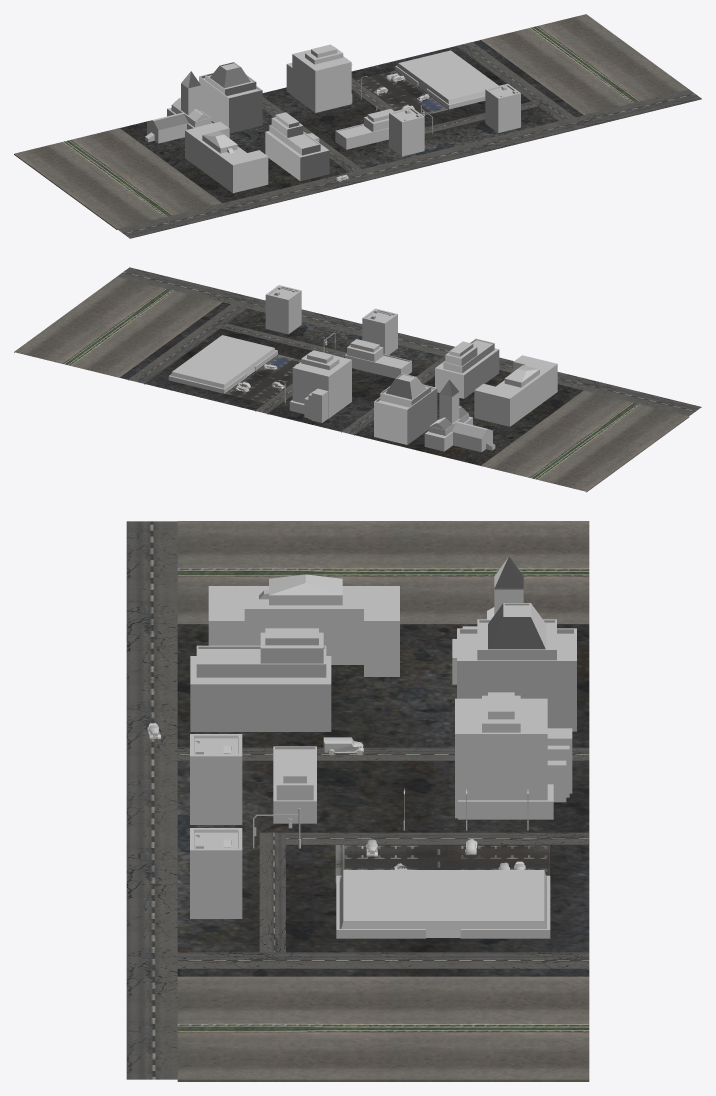
Rendered from Block_08.FBX.
3 renders of one model, top to bottom at view 1: azimuth 30°, elevation 25°; view 2: azimuth 150°, elevation 25°; view 3: azimuth 270°, elevation 25°, orthographic. The views are drawn at different scales.
Parts seen in each view (by area): view 1: pasted__polySurface1394; view 2: pasted__polySurface1394; view 3: pasted__polySurface1394.
Part boxes in pixels (left/top/right/bottom): pasted__polySurface1394: left=14, top=14, right=701, bottom=238; pasted__polySurface1394: left=14, top=267, right=701, bottom=492; pasted__polySurface1394: left=126, top=521, right=589, bottom=1081.
Size of the model in its own units: 459 by 161 by 47.68.
